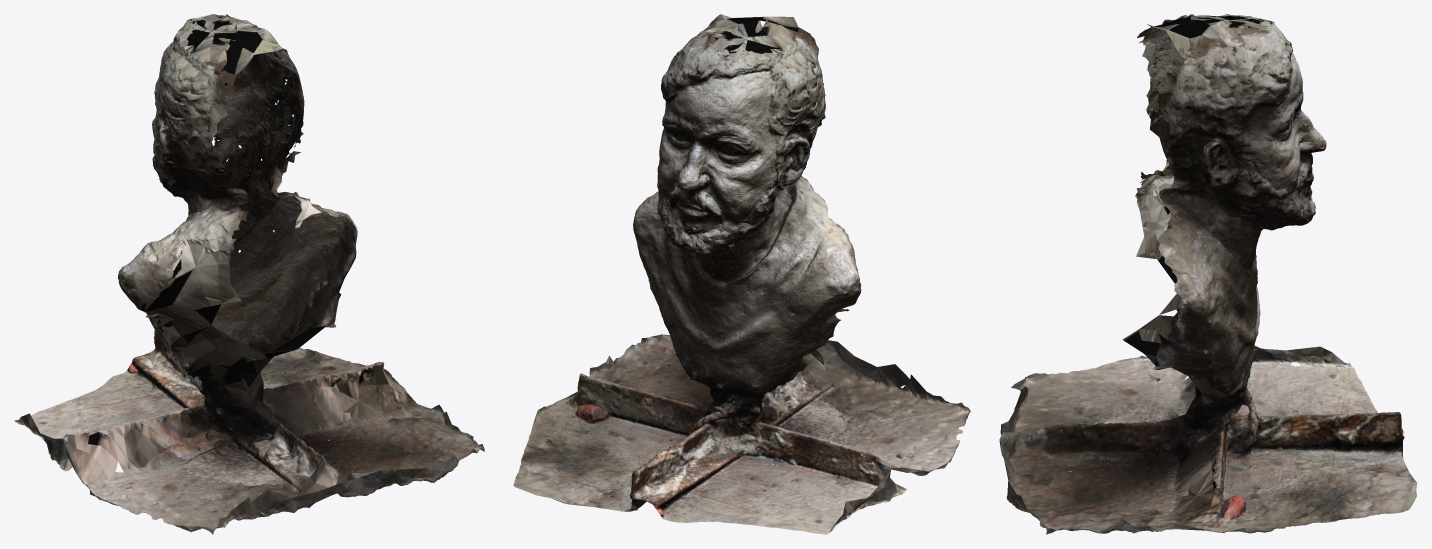
3 renders of one model, left to right at view 1: azimuth 30°, elevation 25°; view 2: azimuth 150°, elevation 25°; view 3: azimuth 270°, elevation 25°, orthographic. The views are drawn at different scales.
Visible parts, largest first — view 1: texturedMesh; view 2: texturedMesh; view 3: texturedMesh.
Part boxes in pixels (box(x1,y1,x2,y2)): texturedMesh: box(14, 14, 484, 534); texturedMesh: box(513, 14, 970, 534); texturedMesh: box(999, 14, 1417, 534).
Size of the model in its own units: 5.54 by 6.26 by 5.55.
2 materials, 2 textured.
